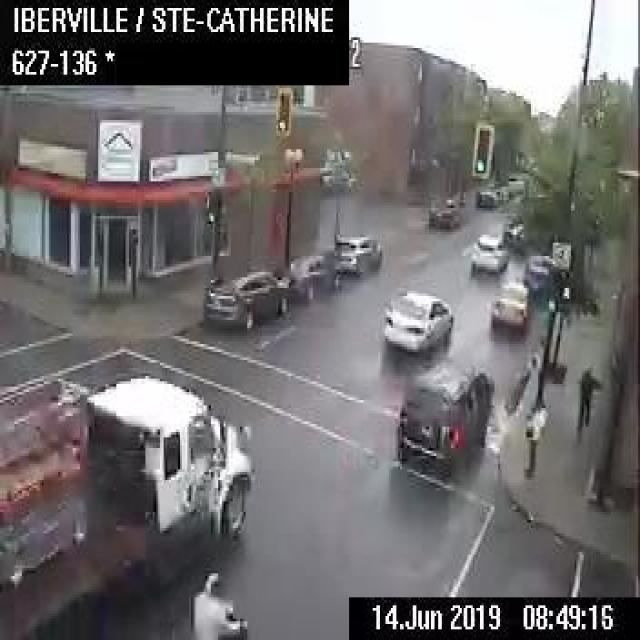pedestrian: (188, 566, 248, 638), (522, 400, 547, 477), (577, 366, 600, 432)
vehicle: (0, 371, 251, 637), (392, 358, 494, 472), (200, 268, 290, 331), (382, 288, 453, 355), (274, 254, 338, 298), (490, 276, 530, 332), (331, 233, 380, 274), (469, 230, 506, 276), (426, 186, 464, 226), (521, 252, 554, 298), (473, 182, 502, 206)
